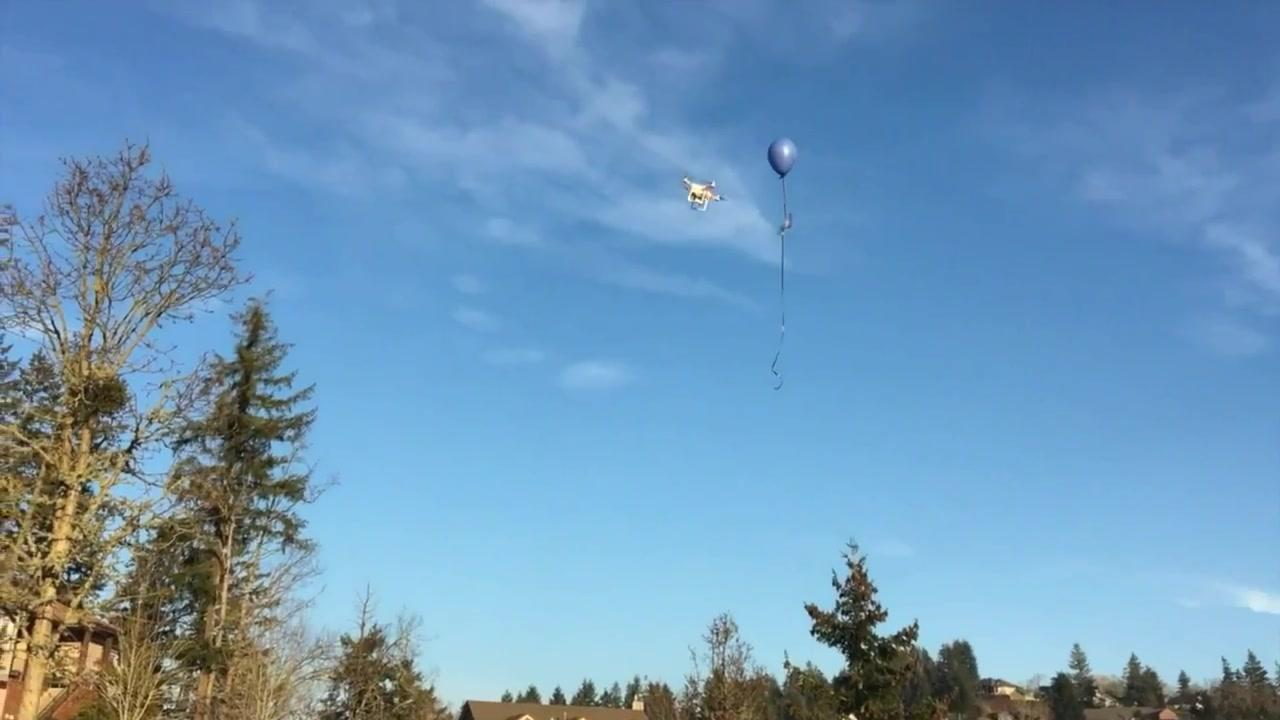UAV: (684, 177, 725, 211)
